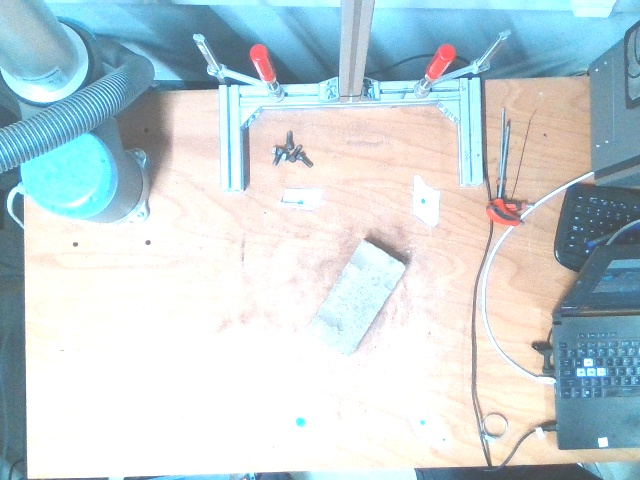brick: (310, 242, 405, 356)
